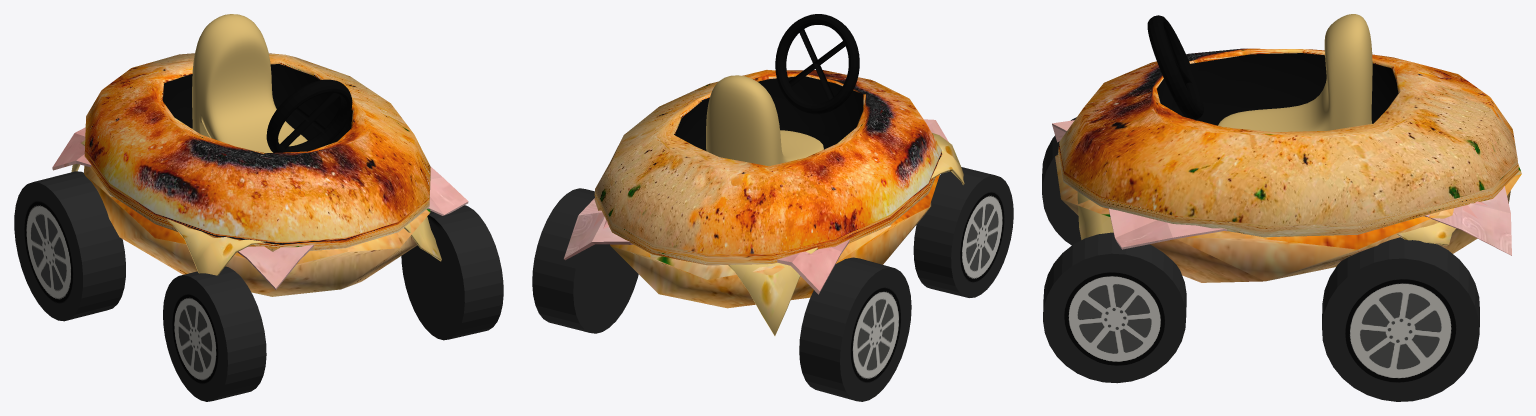
Rendered from carro arepa fix TAMAÑO.fbx.
The picture shows the model from 3 angles, left to right: view 1: azimuth 30°, elevation 25°; view 2: azimuth 150°, elevation 25°; view 3: azimuth 270°, elevation 25°; orthographic projection. The views are drawn at different scales.
Visible parts, largest first — view 1: Cubo.002, Cubo.005, Cubo.006, Cubo.003; view 2: Cubo.002, Cubo.005, Cubo.006, Cubo.004; view 3: Cubo.002, Cubo.004, Cubo.003, Cubo.006.
Part boxes in pixels (box(x1,y1,x2,y2)): Cubo.002: box(52, 14, 468, 296); Cubo.005: box(14, 171, 125, 321); Cubo.006: box(163, 266, 266, 401); Cubo.003: box(401, 205, 503, 340); Cubo.002: box(564, 14, 964, 335); Cubo.005: box(799, 257, 911, 401); Cubo.006: box(913, 167, 1013, 297); Cubo.004: box(532, 188, 638, 333); Cubo.002: box(1052, 14, 1521, 282); Cubo.004: box(1322, 237, 1479, 401); Cubo.003: box(1043, 232, 1186, 383); Cubo.006: box(1042, 117, 1081, 245).
Bounding box in the file's own units: 279 × 231 × 329.
